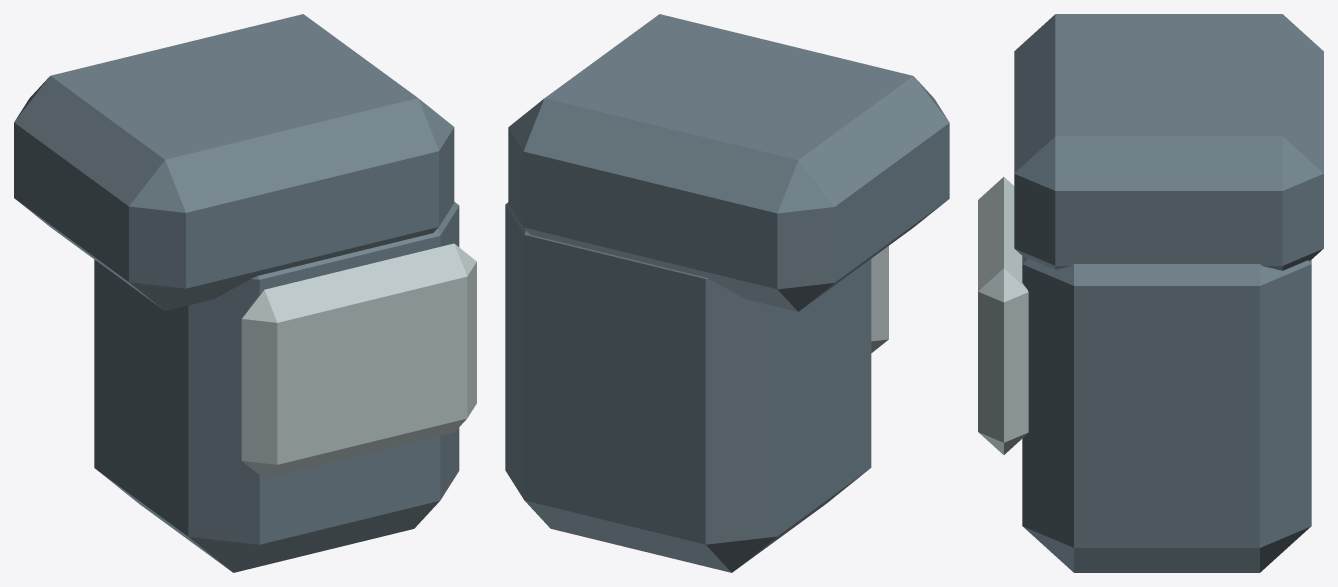
File: iron_gauntlets.glb
3 views of the same model, side by side, from view 1: azimuth 30°, elevation 25°; view 2: azimuth 150°, elevation 25°; view 3: azimuth 270°, elevation 25° (orthographic).
Parts seen in each view (by area): view 1: Gear_Gloves_Iron__Cuff_R, Gear_Gloves_Iron__Hand_R, Gear_Gloves_Iron__Plate_R; view 2: Gear_Gloves_Iron__Hand_R, Gear_Gloves_Iron__Cuff_R, Gear_Gloves_Iron__Plate_R; view 3: Gear_Gloves_Iron__Hand_R, Gear_Gloves_Iron__Cuff_R, Gear_Gloves_Iron__Plate_R.
Part boxes in pixels (left/top/right/bottom): Gear_Gloves_Iron__Cuff_R: left=14, top=14, right=454, bottom=310; Gear_Gloves_Iron__Hand_R: left=94, top=202, right=459, bottom=572; Gear_Gloves_Iron__Plate_R: left=241, top=243, right=476, bottom=478; Gear_Gloves_Iron__Hand_R: left=505, top=202, right=871, bottom=572; Gear_Gloves_Iron__Cuff_R: left=508, top=14, right=949, bottom=311; Gear_Gloves_Iron__Plate_R: left=871, top=246, right=888, bottom=352; Gear_Gloves_Iron__Hand_R: left=1022, top=256, right=1311, bottom=572; Gear_Gloves_Iron__Cuff_R: left=1014, top=14, right=1323, bottom=270; Gear_Gloves_Iron__Plate_R: left=978, top=177, right=1028, bottom=454.
Size of the model in its own units: 0.188 by 0.232 by 0.1675.
